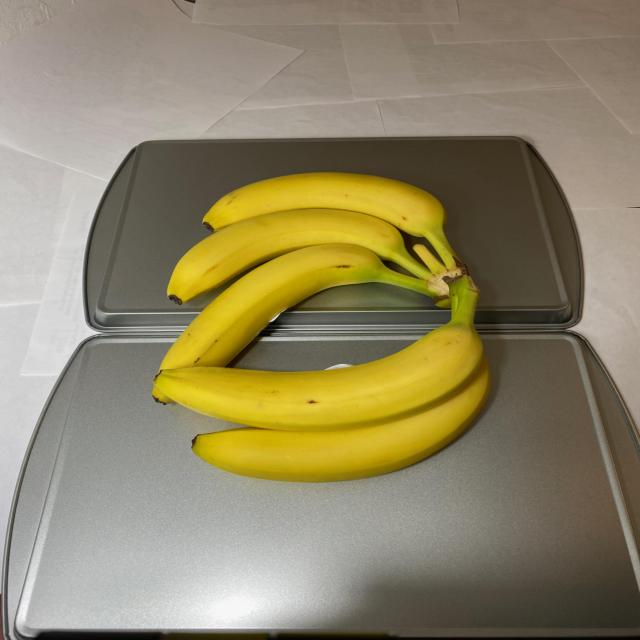Banana: (154, 172, 498, 485)
